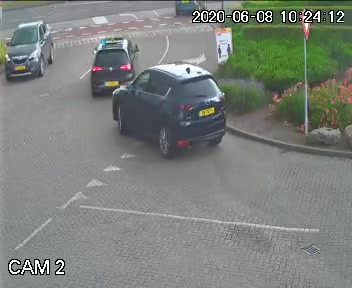car: (108, 60, 231, 162), (3, 18, 57, 84), (87, 30, 138, 98), (170, 0, 209, 20)
